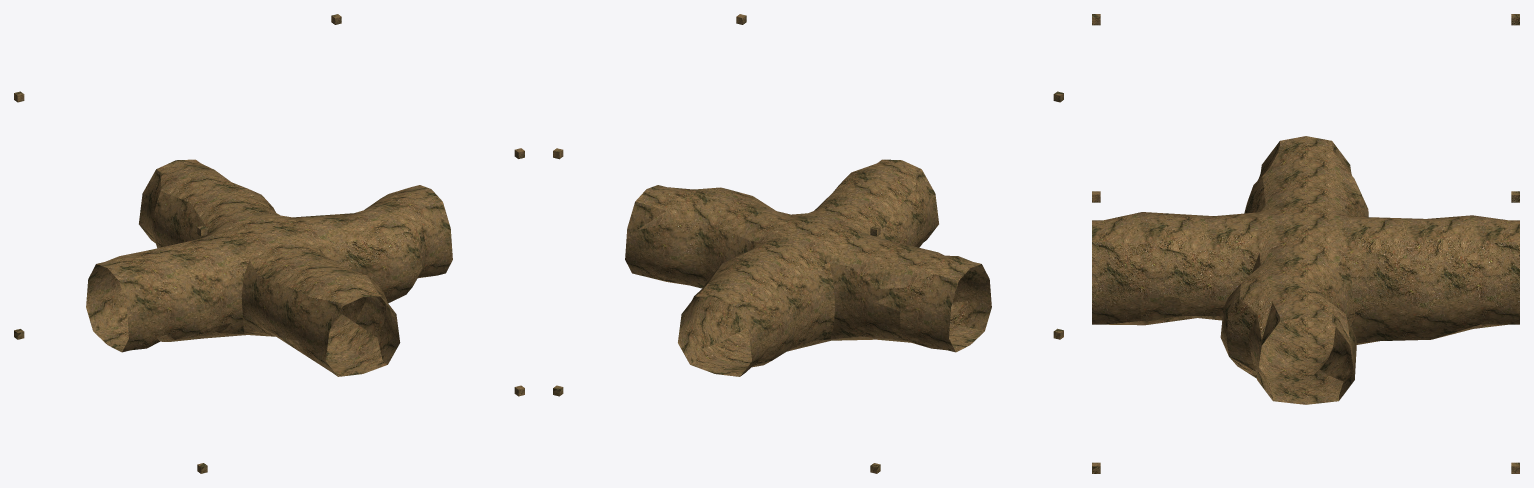
Rendered from lba_4d.glb.
3 views of the same model, side by side, from view 1: azimuth 30°, elevation 25°; view 2: azimuth 150°, elevation 25°; view 3: azimuth 270°, elevation 25° (orthographic). The views are drawn at different scales.
Parts seen in each view (by area): view 1: lba_4d-col; view 2: lba_4d-col; view 3: lba_4d-col.
Part boxes in pixels (<box>): lba_4d-col: <box>14,14,524,473</box>; lba_4d-col: <box>553,14,1063,473</box>; lba_4d-col: <box>1092,14,1519,473</box>.
Bounding box in the file's own units: 15 × 10.8 × 15.
Materials: 1 (1 with a texture image).
